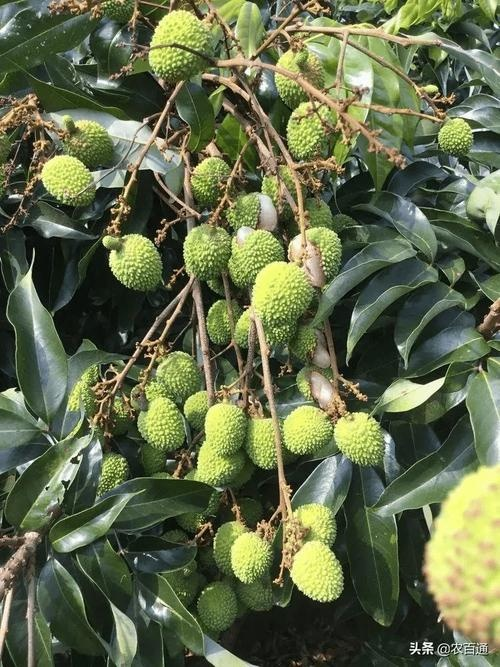Anthracnose: (238, 177, 337, 297)
